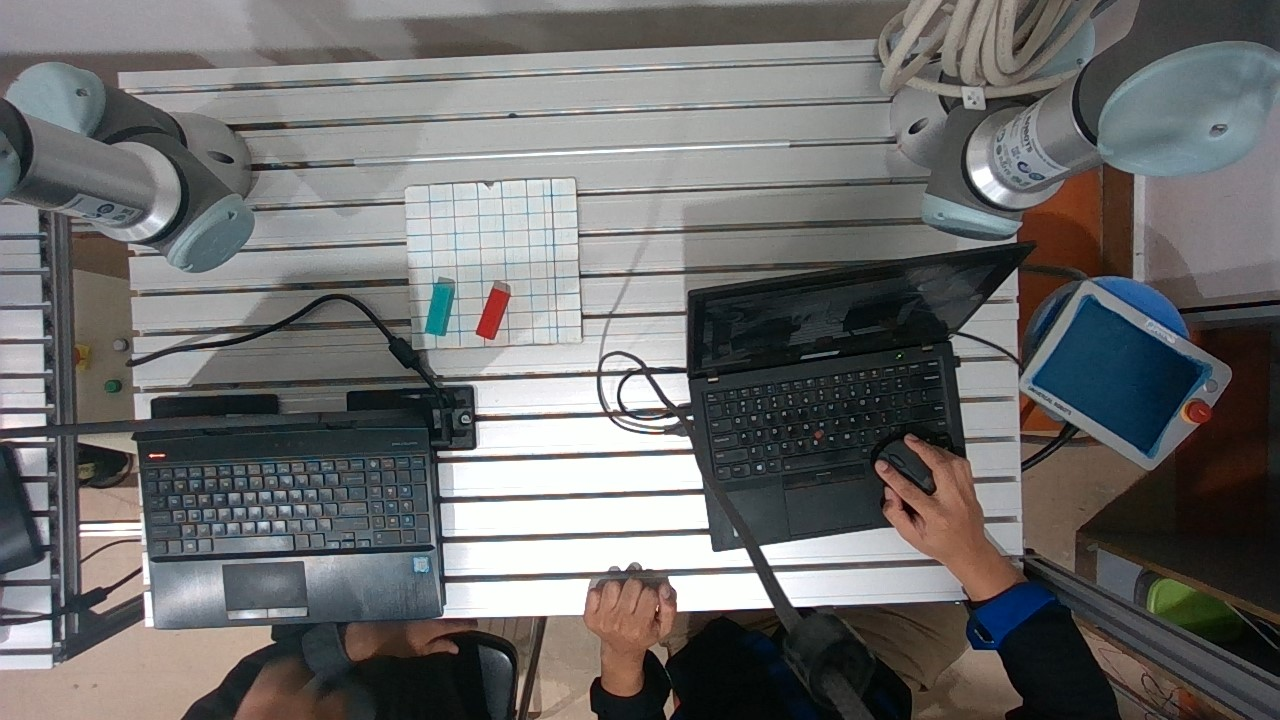box: (427, 275, 455, 340), (485, 279, 509, 346)
